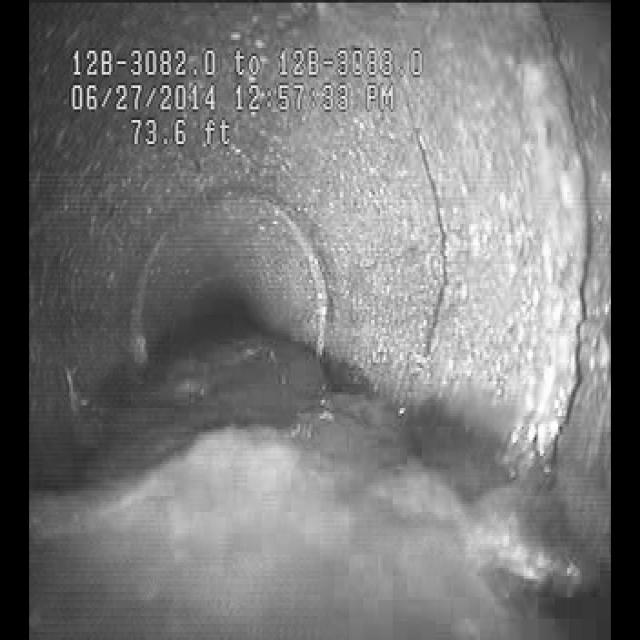Crack: (512, 58, 606, 470), (397, 120, 465, 338)
